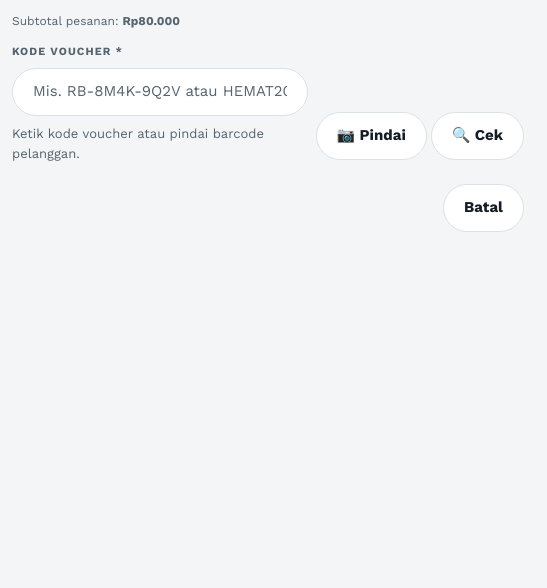
Test: VoucherKasir (T8-09) › tombol Pakai Voucher dinonaktifkan sebelum PIN kasir diisi
In the field labelled "Kode voucher *": (160, 92) [12,68,308,116], type "VC-HEMAT20"
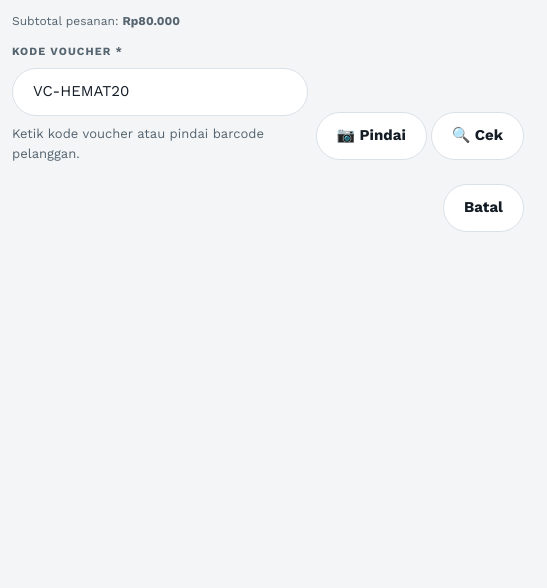
Click the button with aria-label "Cek voucher": (477, 136) [431,112,524,160]
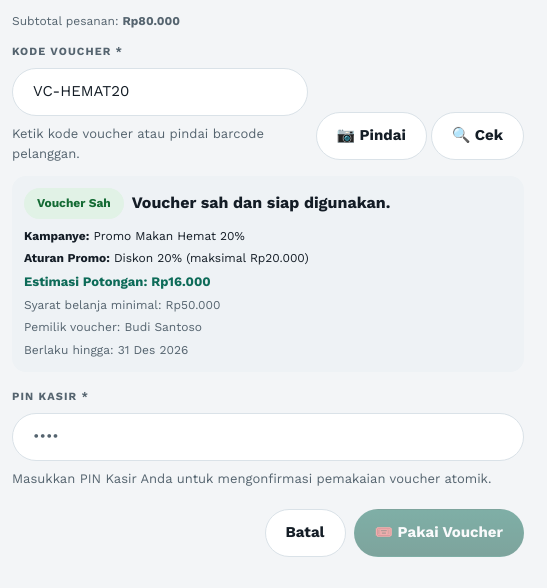
Expected: the element with test id "voucher-hasil-cek-sukses" is shown, [12,176,524,372]
Expected: the button "🎟️ Pakai Voucher" is disabled, [354,509,524,557]
In the password field labelled "PIN Kasir *": (268, 437) [12,413,524,461], type "1234"
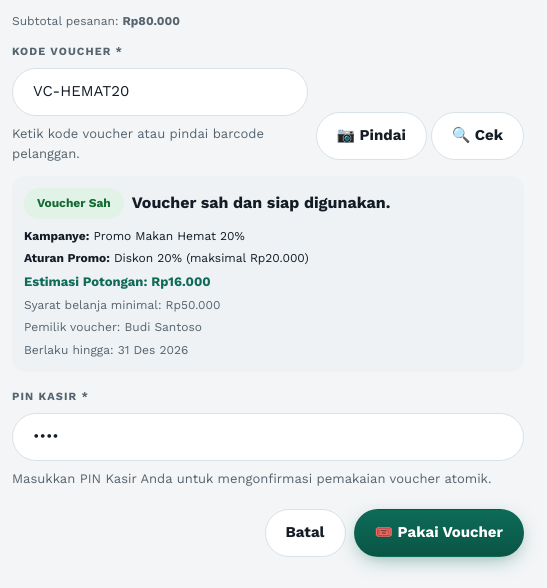
Expected: the button "🎟️ Pakai Voucher" is enabled, [354,509,524,557]
